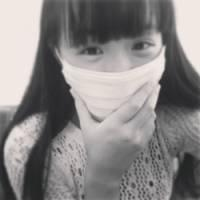face_mask: (60, 1, 165, 125)
